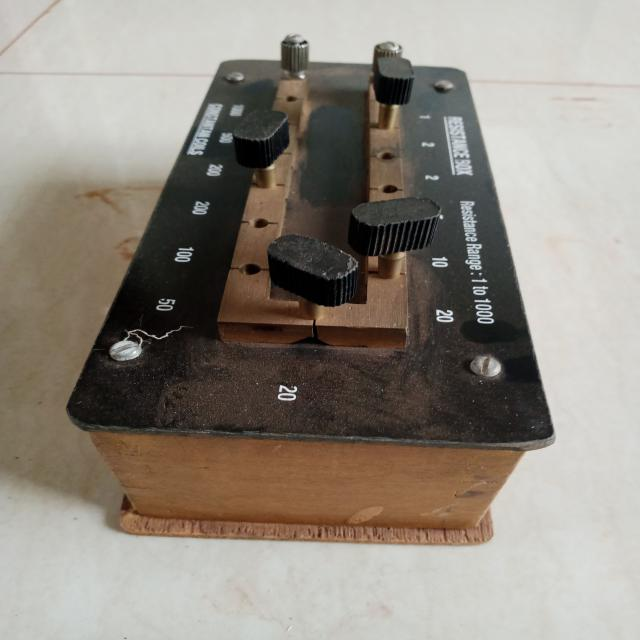Pinned Resistance Box: (26, 30, 590, 552)
